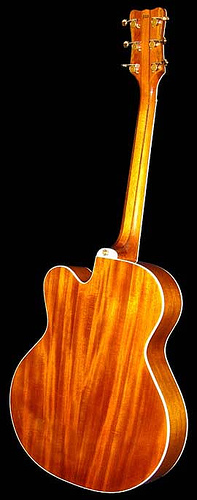guitar: (7, 5, 188, 494)
